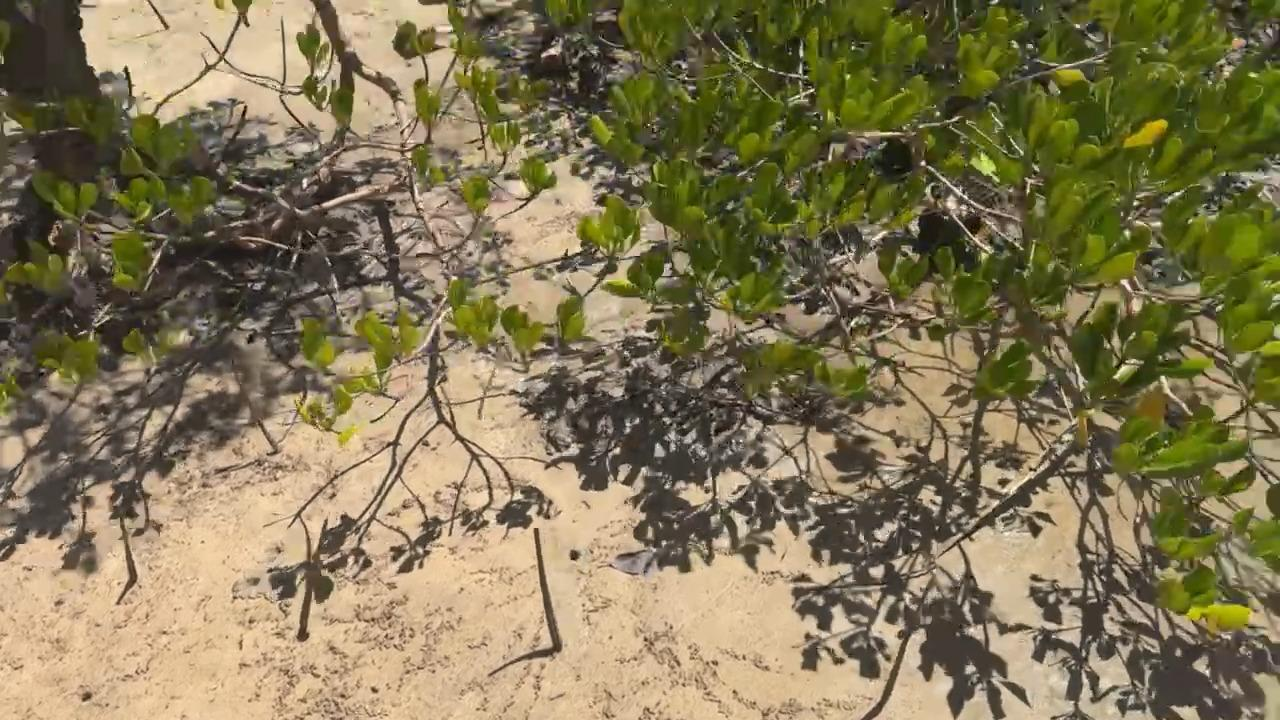Tree: (879, 575, 937, 702), (230, 363, 282, 456), (297, 517, 330, 642), (533, 526, 563, 653), (118, 489, 137, 583)
